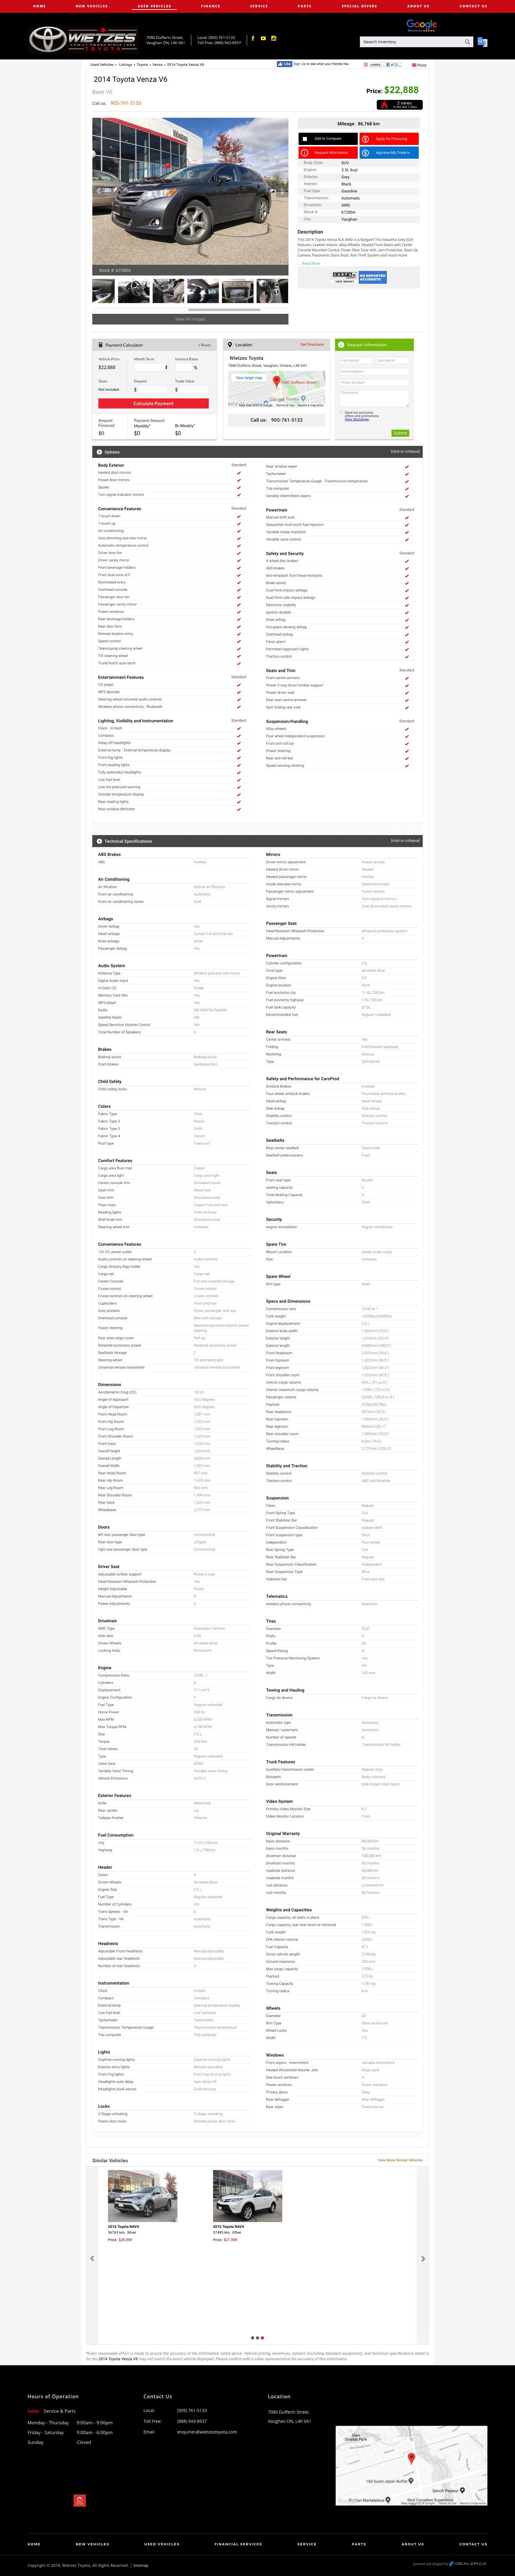car: (280, 187, 286, 195)
